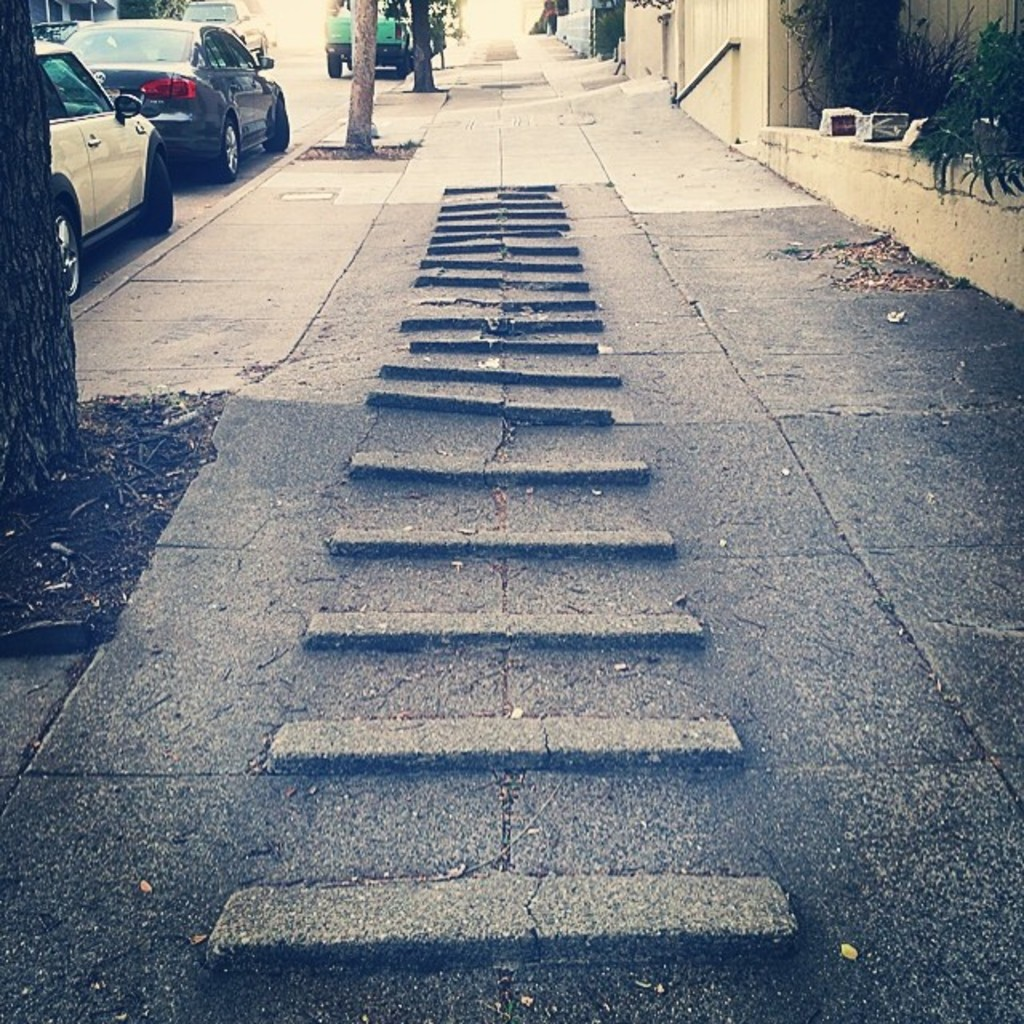Car: (32, 35, 176, 304), (54, 14, 289, 177), (180, 0, 275, 52), (33, 12, 91, 52)
